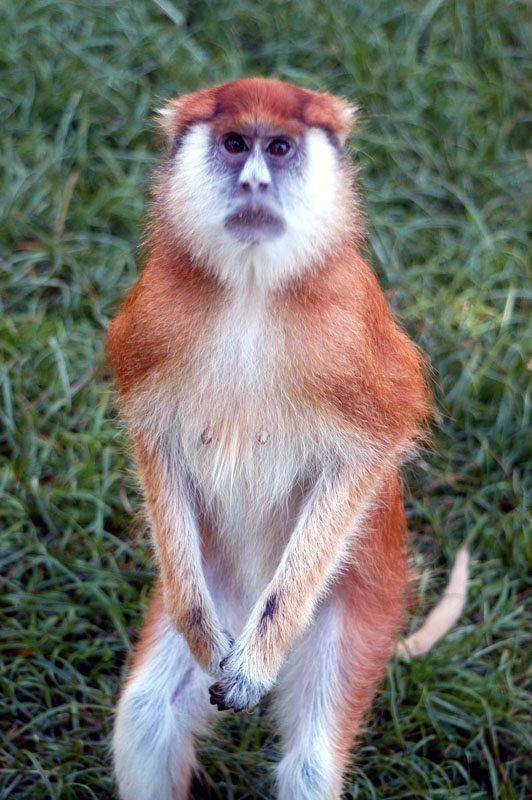monkey: (101, 77, 429, 800)
